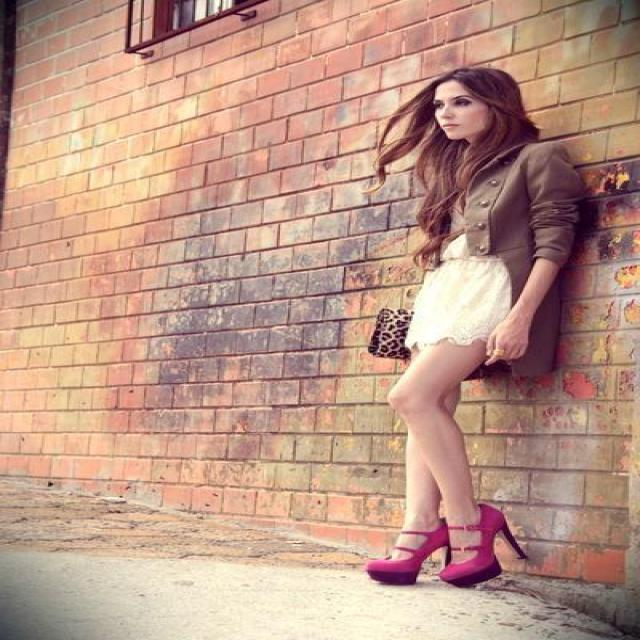bag: (368, 330, 410, 362)
dress: (405, 243, 517, 349)
jacket: (448, 145, 586, 388)
shoe: (366, 503, 528, 588)
